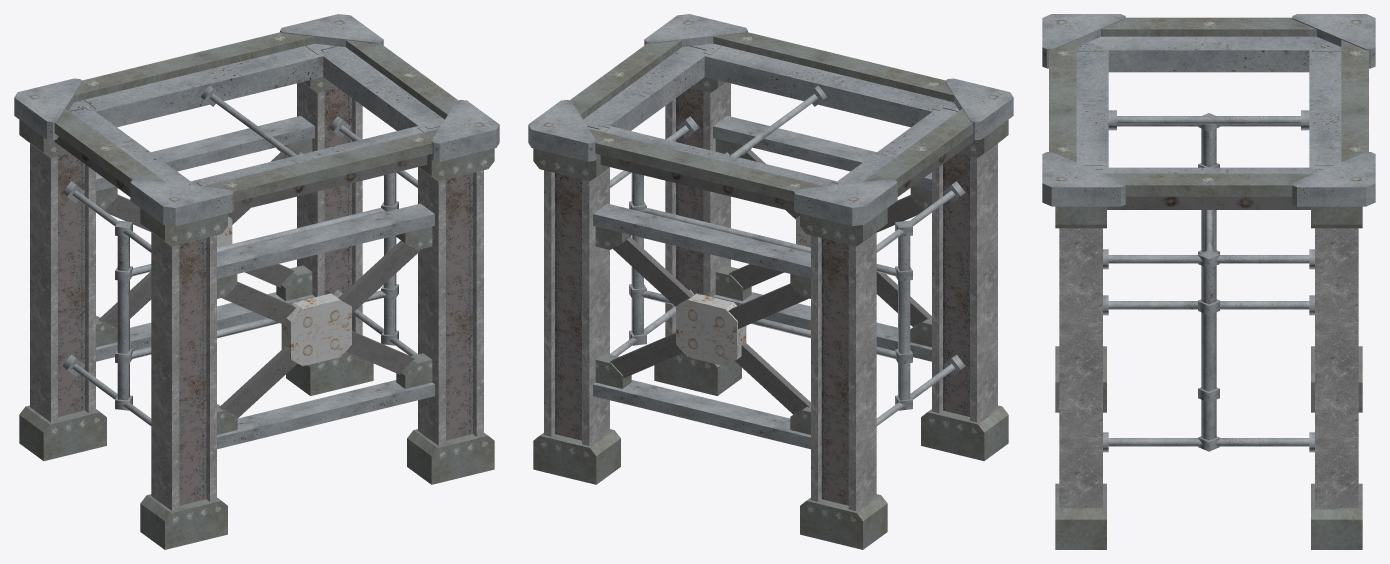
File: Ob_ScafThick_RC.fbx
3 views of the same model, side by side, from view 1: azimuth 30°, elevation 25°; view 2: azimuth 150°, elevation 25°; view 3: azimuth 270°, elevation 25° (orthographic). The views are drawn at different scales.
Parts seen in each view (by area): view 1: Ob_ScafThick_RC; view 2: Ob_ScafThick_RC; view 3: Ob_ScafThick_RC.
Boxes of the visible parts, bbox=[...] form: Ob_ScafThick_RC: bbox=[14, 14, 499, 549]; Ob_ScafThick_RC: bbox=[528, 14, 1013, 549]; Ob_ScafThick_RC: bbox=[1042, 14, 1375, 549].
Size of the model in its own units: 1106 by 1084 by 900.
